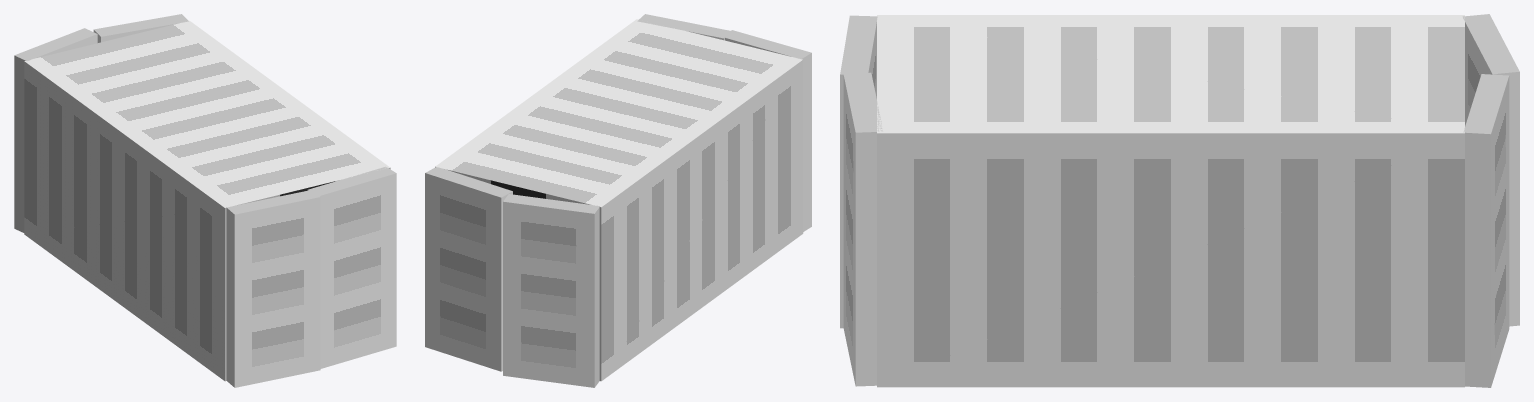
File: ship_container.gltf
The picture shows the model from 3 angles, left to right: view 1: azimuth 30°, elevation 25°; view 2: azimuth 150°, elevation 25°; view 3: azimuth 270°, elevation 25°; orthographic projection. The views are drawn at different scales.
Parts seen in each view (by area): view 1: 260a0ce3-836f-58b5-09f6-a5fdef9df205, 8ffa5127-1c6c-c92d-fbd4-5799d78e85be, 29d5abfa-4e82-0d99-1875-4324e367df99, c2bc2447-cf34-7d4c-5881-d7d6691be792, 1e1b1a95-c10f-121b-a622-bbbbc777a9ab; view 2: 260a0ce3-836f-58b5-09f6-a5fdef9df205, c2bc2447-cf34-7d4c-5881-d7d6691be792, 1e1b1a95-c10f-121b-a622-bbbbc777a9ab, 8ffa5127-1c6c-c92d-fbd4-5799d78e85be, 29d5abfa-4e82-0d99-1875-4324e367df99; view 3: 260a0ce3-836f-58b5-09f6-a5fdef9df205, 1e1b1a95-c10f-121b-a622-bbbbc777a9ab, 29d5abfa-4e82-0d99-1875-4324e367df99, c2bc2447-cf34-7d4c-5881-d7d6691be792, 8ffa5127-1c6c-c92d-fbd4-5799d78e85be.
Boxes of the visible parts, box(x1,y1,x2,y2) form: 260a0ce3-836f-58b5-09f6-a5fdef9df205: box(24, 20, 390, 381); 8ffa5127-1c6c-c92d-fbd4-5799d78e85be: box(226, 190, 320, 387); 29d5abfa-4e82-0d99-1875-4324e367df99: box(307, 166, 396, 368); c2bc2447-cf34-7d4c-5881-d7d6691be792: box(14, 28, 97, 232); 1e1b1a95-c10f-121b-a622-bbbbc777a9ab: box(93, 14, 188, 42); 260a0ce3-836f-58b5-09f6-a5fdef9df205: box(435, 19, 803, 381); c2bc2447-cf34-7d4c-5881-d7d6691be792: box(503, 194, 599, 387); 1e1b1a95-c10f-121b-a622-bbbbc777a9ab: box(425, 167, 512, 371); 8ffa5127-1c6c-c92d-fbd4-5799d78e85be: box(722, 30, 811, 231); 29d5abfa-4e82-0d99-1875-4324e367df99: box(637, 14, 731, 40); 260a0ce3-836f-58b5-09f6-a5fdef9df205: box(877, 15, 1464, 387); 1e1b1a95-c10f-121b-a622-bbbbc777a9ab: box(1463, 74, 1509, 387); 29d5abfa-4e82-0d99-1875-4324e367df99: box(843, 72, 882, 386); c2bc2447-cf34-7d4c-5881-d7d6691be792: box(1462, 14, 1519, 326); 8ffa5127-1c6c-c92d-fbd4-5799d78e85be: box(840, 15, 877, 328).
Size of the model in its own units: 0.6348 by 0.625 by 1.52.
1 material, 1 textured.
